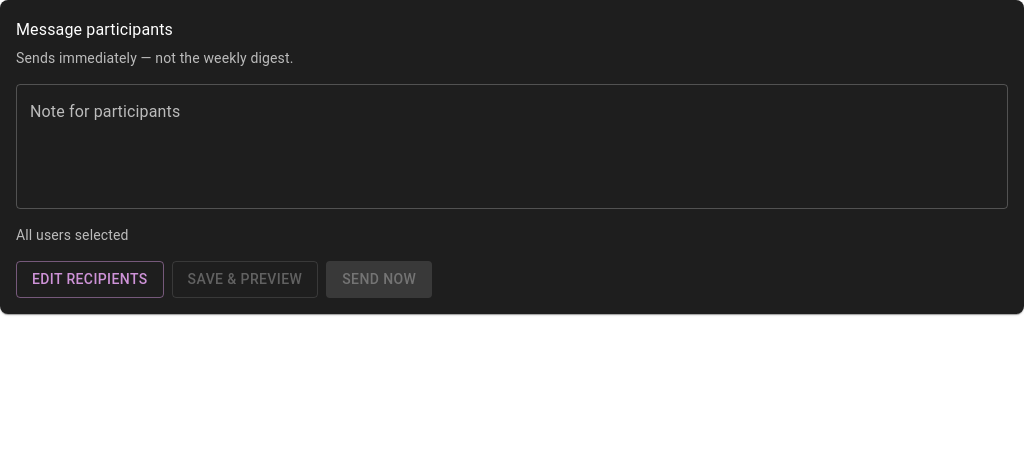
Scenario: AdminOnDemandEmailCard › shows a warning Alert when some members fail
Type "Kickoff moved" into the text box labelled "Note for participants" at (512, 146), box top-left (30, 100), bottom-right (994, 192)
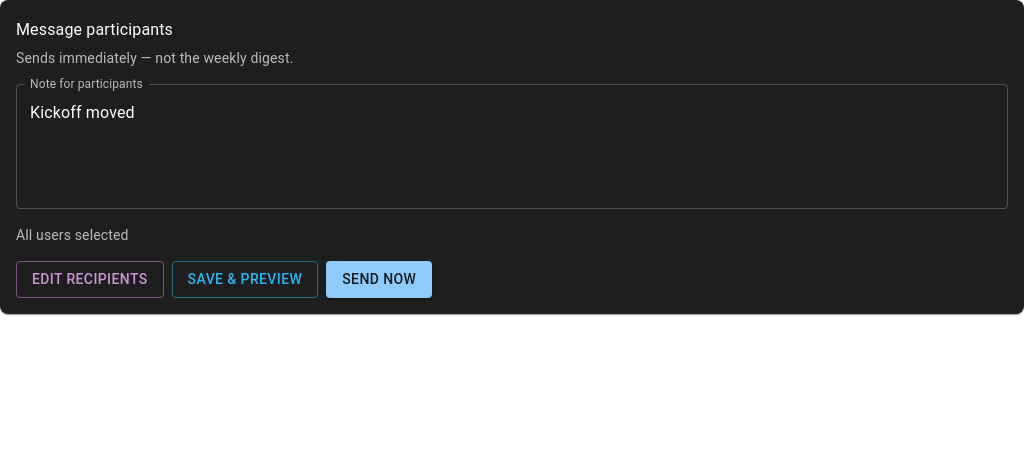
Click the button "Send Now" at (379, 279), box top-left (326, 261), bottom-right (432, 298)
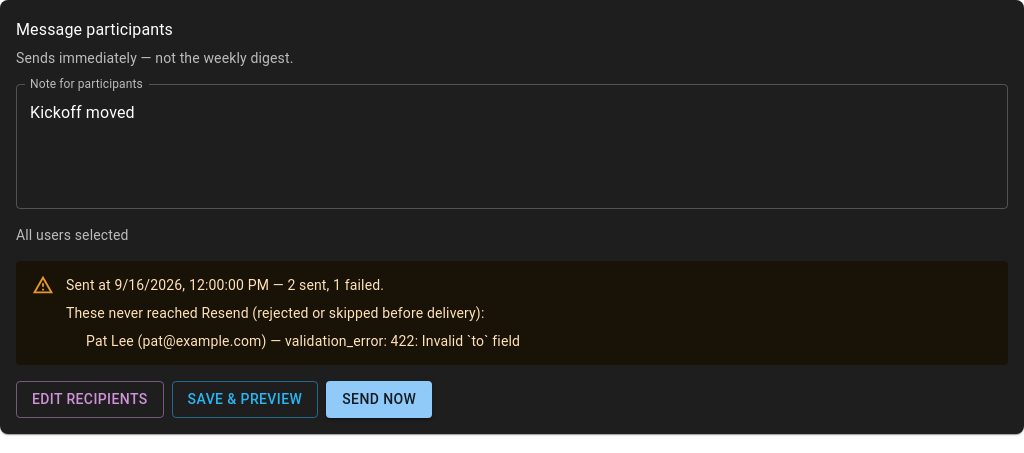
Expected: the text "Sent at 9/16/2026, 12:00:00 PM — 2 sent, 1 failed." is shown, top-left (66, 277), bottom-right (384, 293)
Expected: the text "These never reached Resend (rejected or skipped before delivery)" is shown, top-left (66, 305), bottom-right (484, 321)
Expected: the list item "Pat Lee (pat@example.com) — validation_error: 422: Invalid `to` field" is shown, top-left (86, 331), bottom-right (520, 351)
